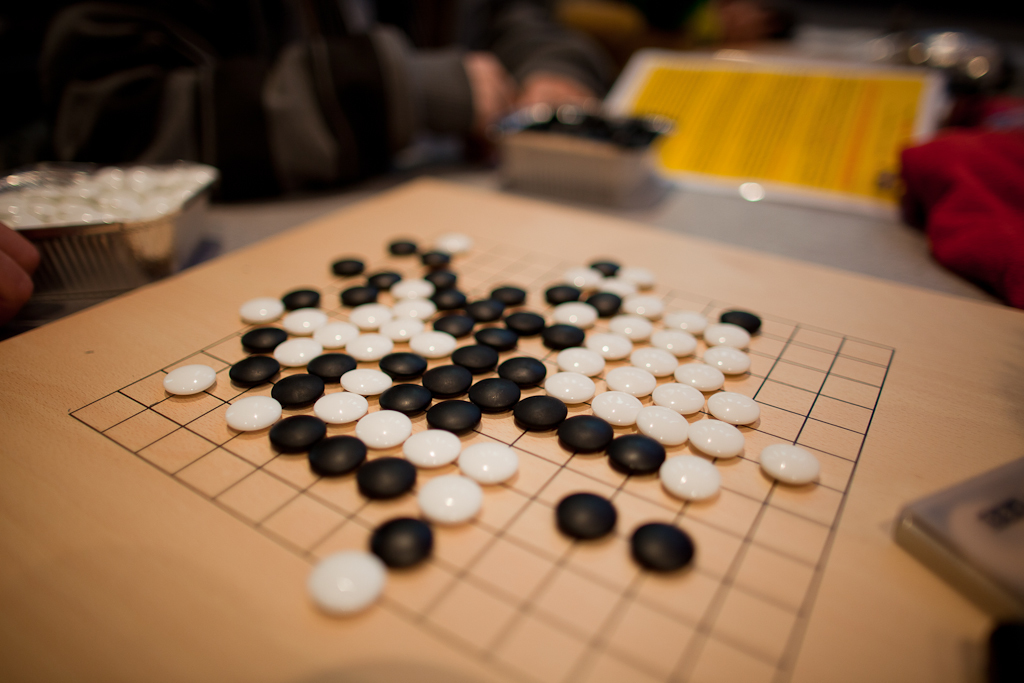person: (548, 0, 788, 72)
